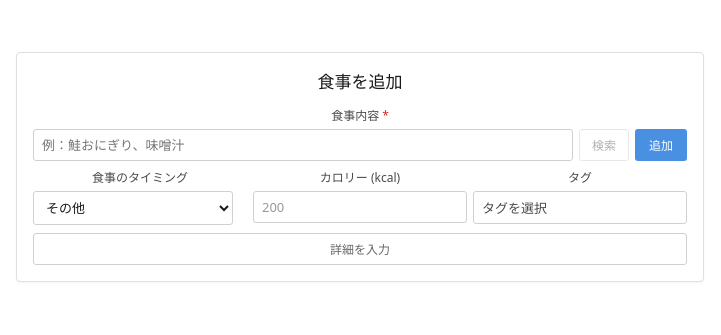
Test case: MealForm › 食品検索ができる
The width and height of the screenshot is (721, 335).
Step 1. Type "おにぎり" into the field labelled "食事内容" → [303, 145], box [33,129,573,161]
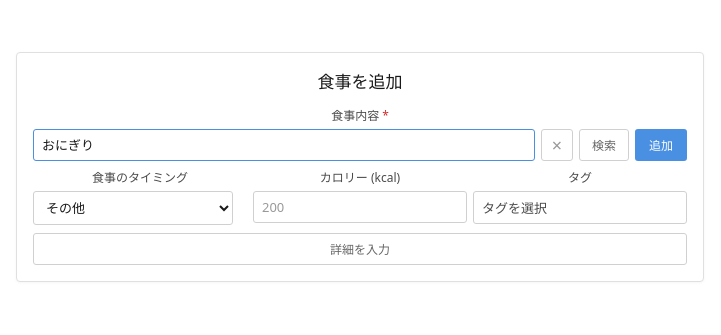
Step 2. Click the button "検索" → [604, 145], box [579,129,629,161]
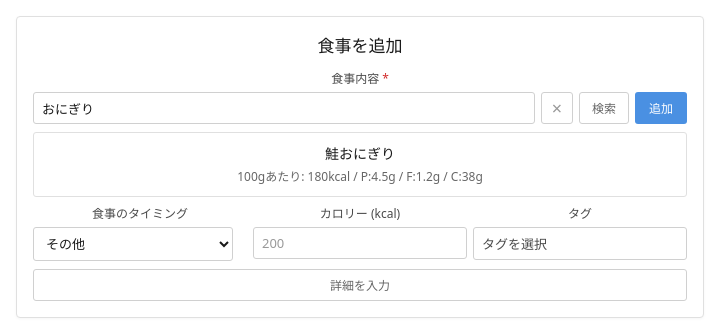
expect the text "鮭おにぎり" is shown: met, box [325,144,395,163]
expect the text "100gあたり: 180kcal / P:4.5g / F:1.2g / C:38g" is shown: met, box [237,168,483,185]
